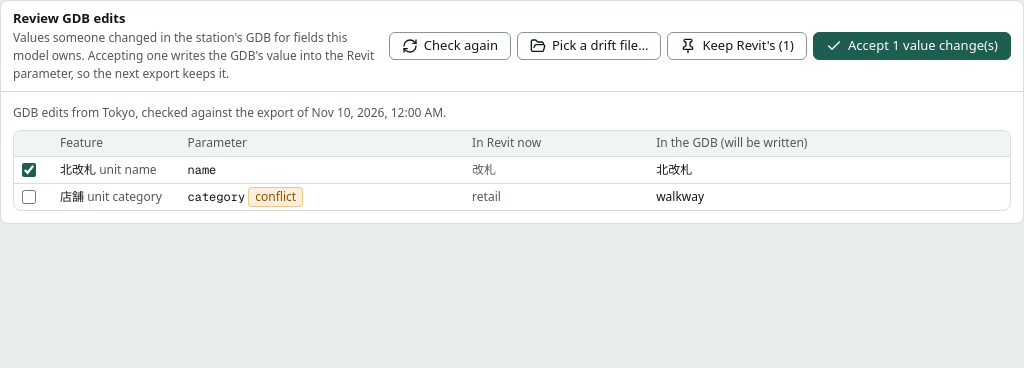
Test: DriftPanel keep wiring › shows an error without refreshing when gisDrift.keep fails
Click the button "Keep Revit's (1)" at x=737, y=46, box [668,32,807,60]
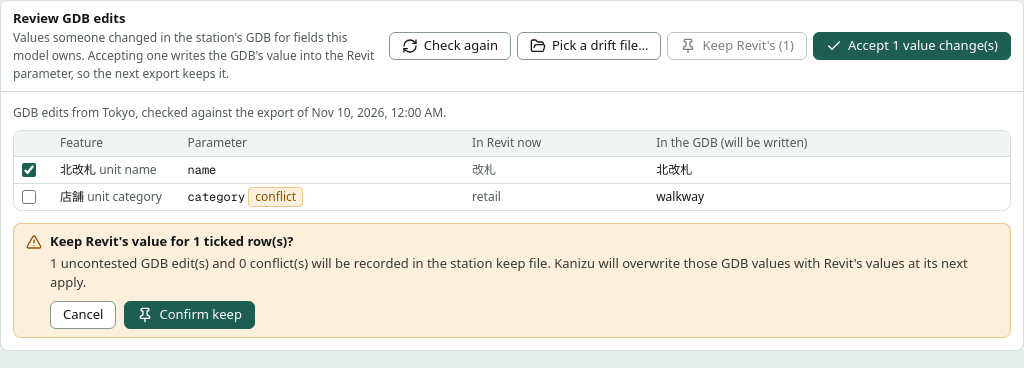
Click the button "Confirm keep" at x=190, y=314, box [124,300,255,328]
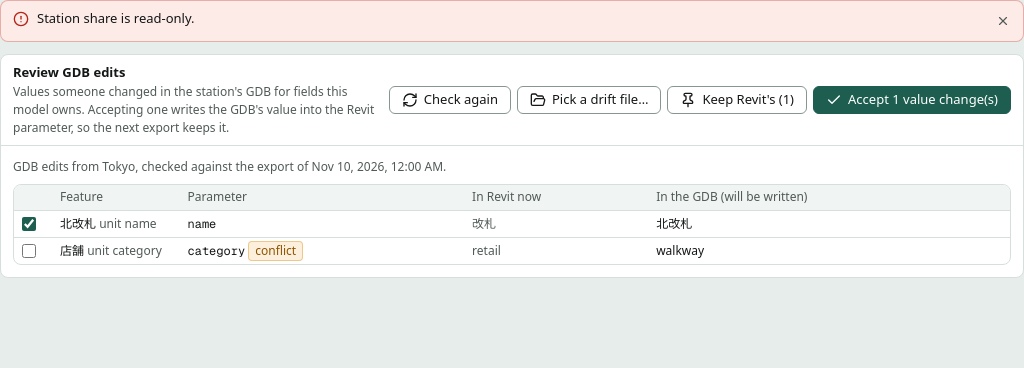
Check: the text "Station share is read-only." is shown, box [37,9,195,27]
